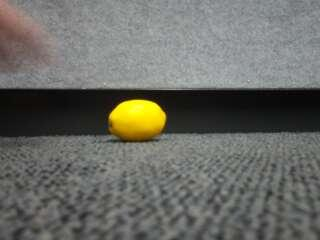lemon: (109, 100, 165, 143)
